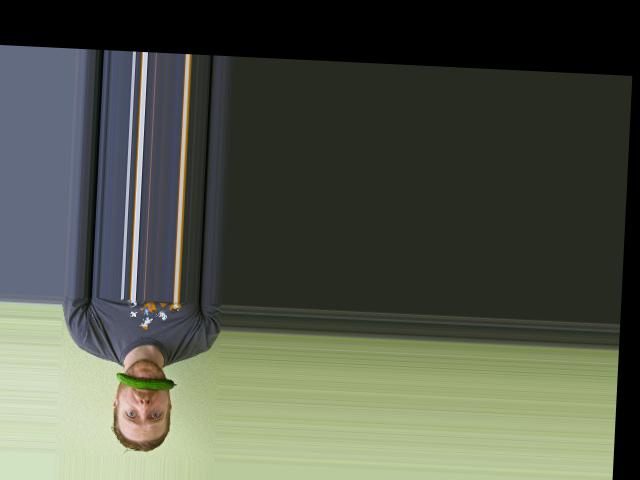cucumber: (114, 372, 177, 390)
